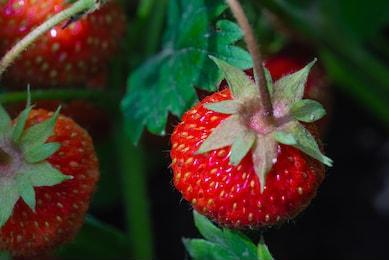Fresa: (160, 47, 339, 235), (3, 101, 103, 260)
